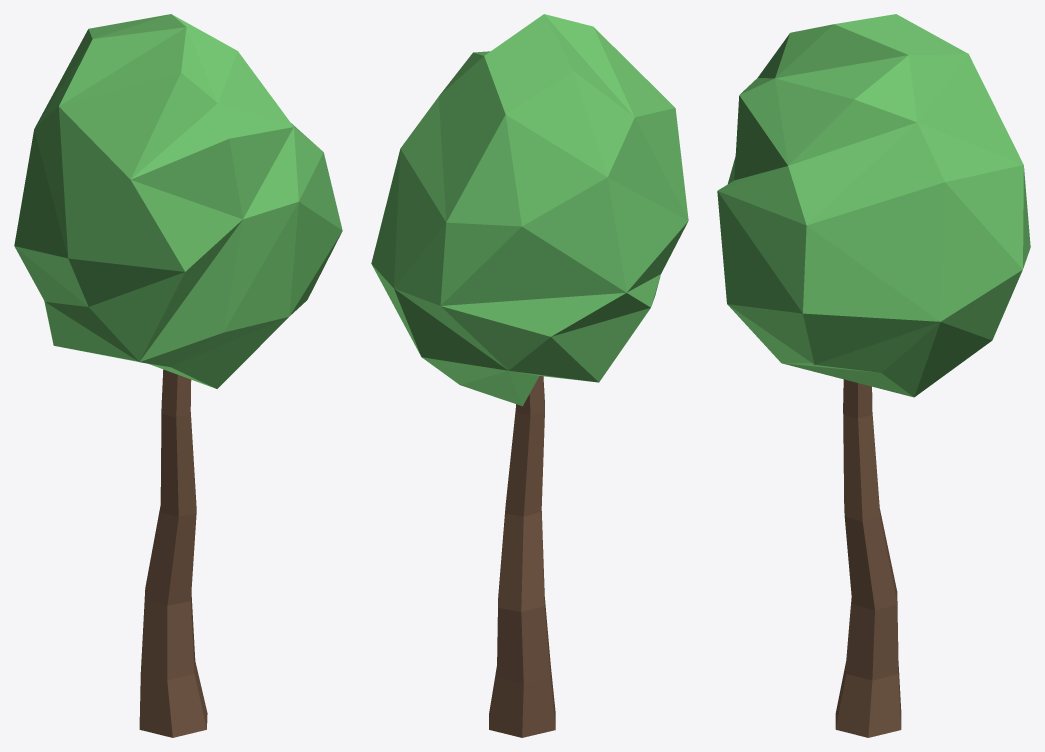
The model's file is Arbre_Boule_1.fbx.
3 views of the same model, side by side, from view 1: azimuth 30°, elevation 25°; view 2: azimuth 150°, elevation 25°; view 3: azimuth 270°, elevation 25° (orthographic).
Parts seen in each view (by area): view 1: pCube1, pCylinder12; view 2: pCube1, pCylinder12; view 3: pCube1, pCylinder12.
Boxes of the visible parts, x1,y1,x2,y2 form: pCube1: (14,14,342,388); pCylinder12: (139,369,207,737); pCube1: (371,14,688,406); pCylinder12: (489,376,555,737); pCube1: (717,14,1030,397); pCylinder12: (835,379,901,737).
Size of the model in its own units: 2.6 by 6.44 by 2.63.
